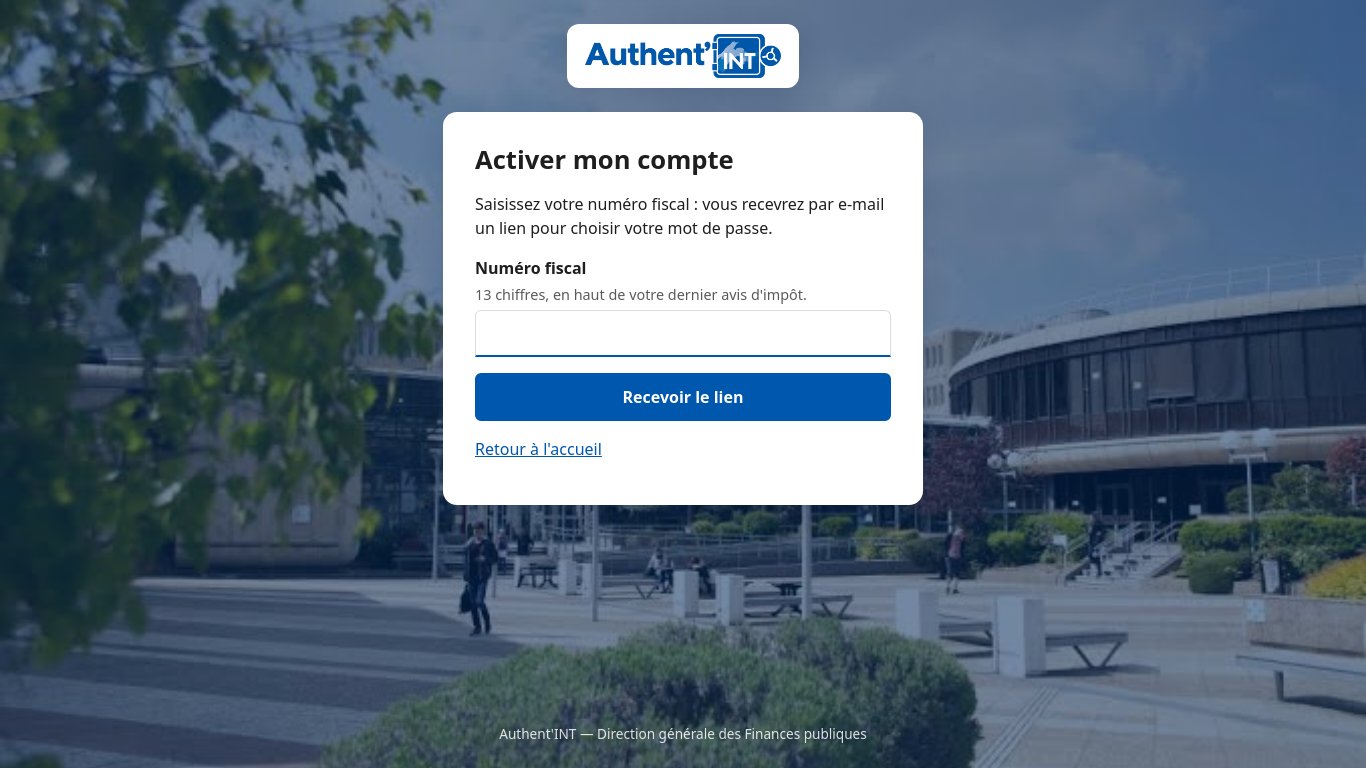
it: asking for a activation link › checks the 13 digits first
Type "123" into the field labelled "Numéro fiscal" at (683,333), box [475,310,891,357]
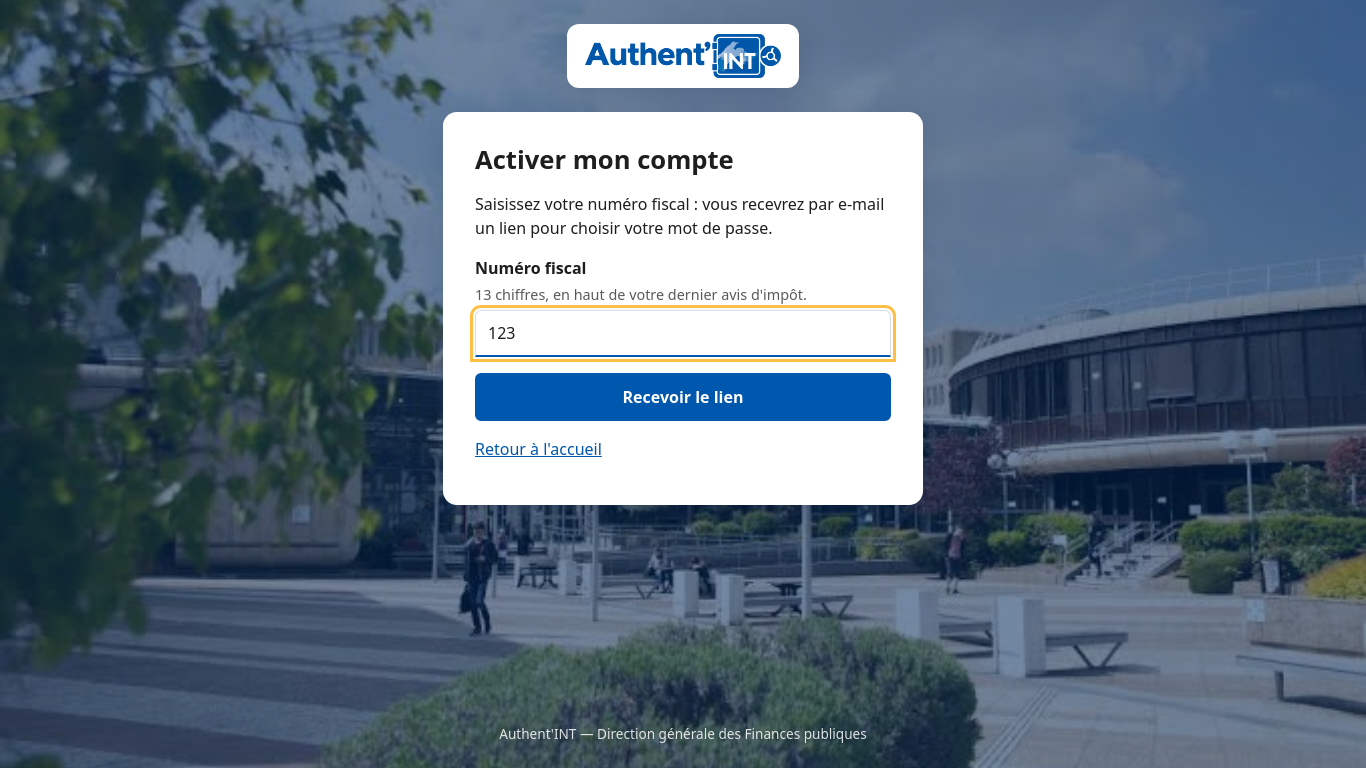
Click the button "Recevoir le lien" at (683,397), box [475,373,891,421]
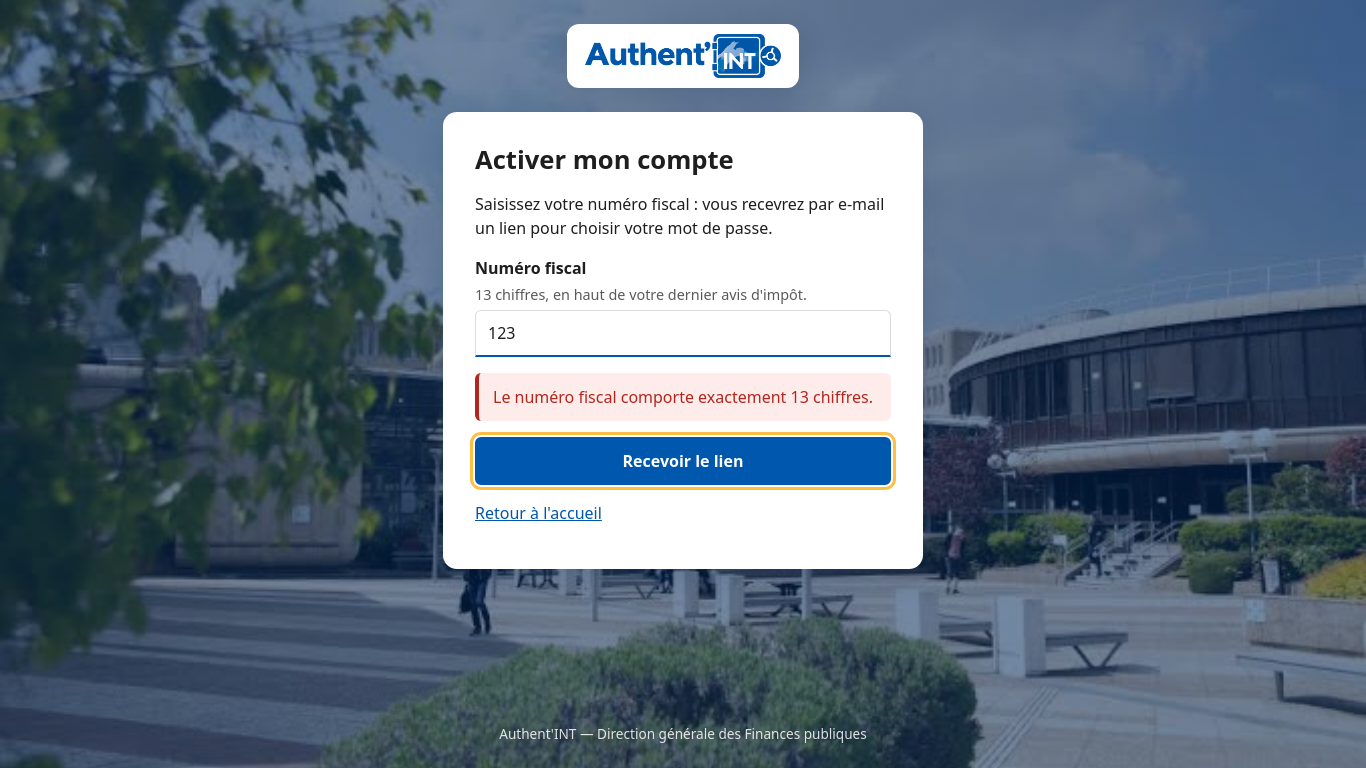
Expected: the message shows "13 chiffres", [493,386,873,408]
